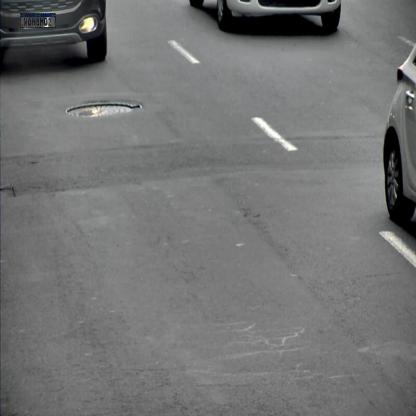PlacaM: (20, 13, 56, 28)
